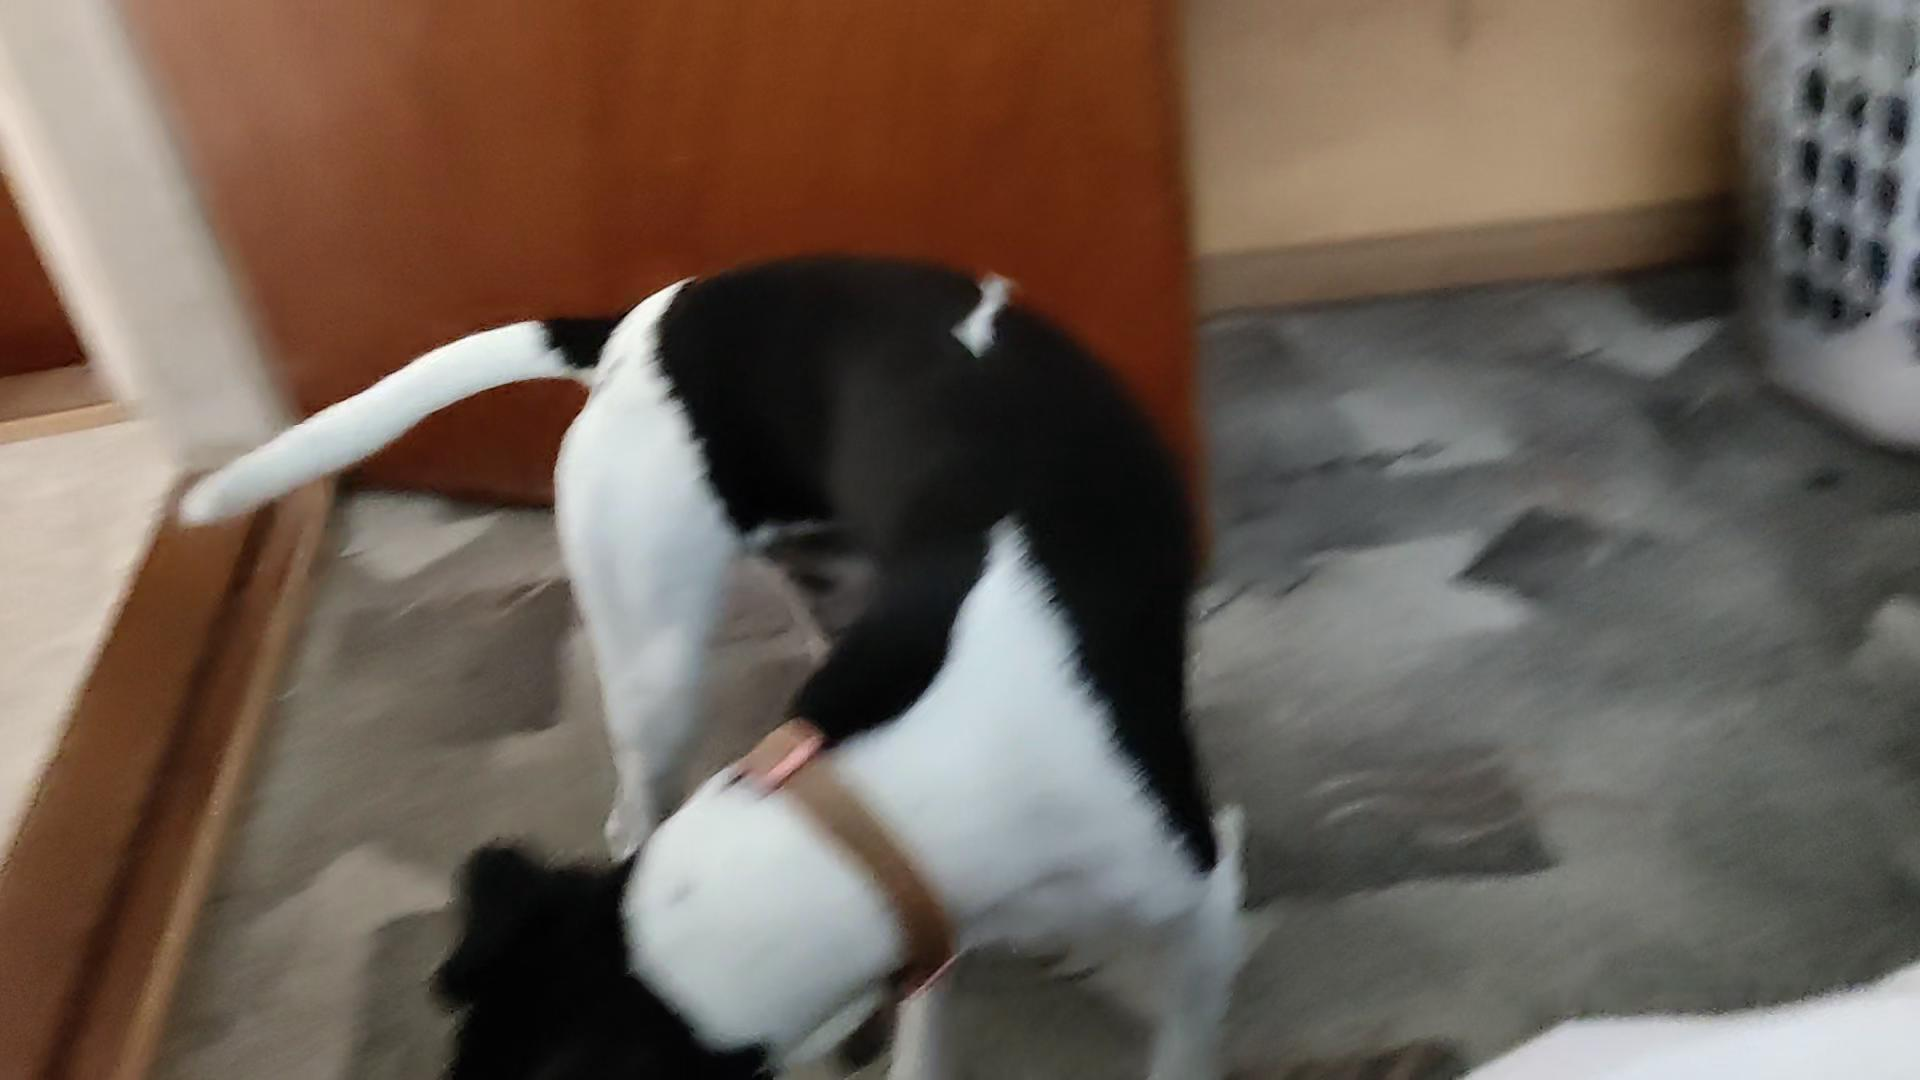Dog: (152, 216, 1261, 1080)
